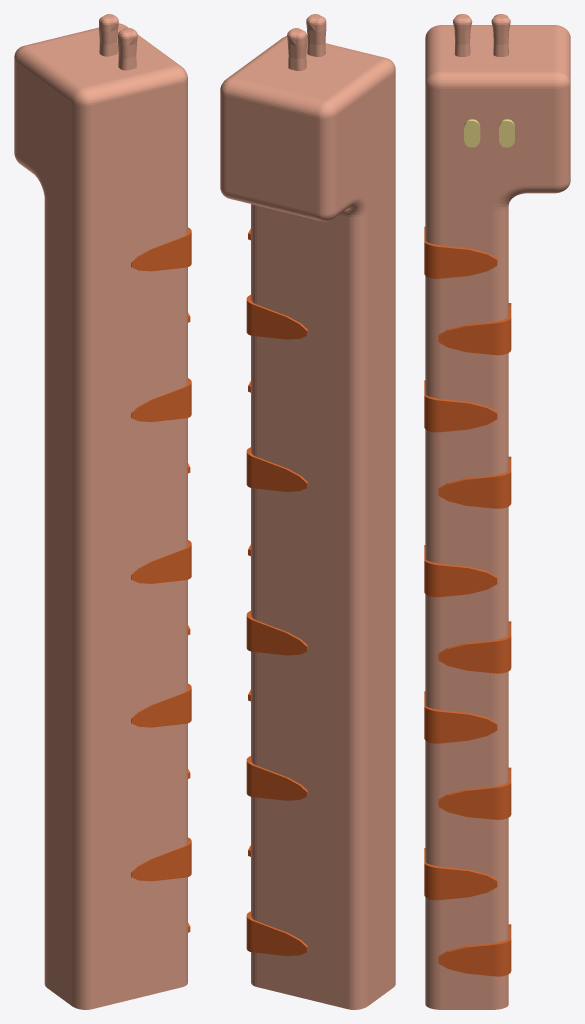
File: 长颈鹿0810-2.dae
The picture shows the model from 3 angles, left to right: view 1: azimuth 30°, elevation 25°; view 2: azimuth 150°, elevation 25°; view 3: azimuth 270°, elevation 25°; orthographic projection.
Parts seen in each view (by area): view 1: 立方体.002; view 2: 立方体.002; view 3: 立方体.002.
Part boxes in pixels (bbox=[...]): 立方体.002: bbox=[14, 14, 191, 1009]; 立方体.002: bbox=[220, 14, 395, 1009]; 立方体.002: bbox=[424, 14, 570, 1009].
Size of the model in its own units: 1.29 by 1.38 by 10.08.
